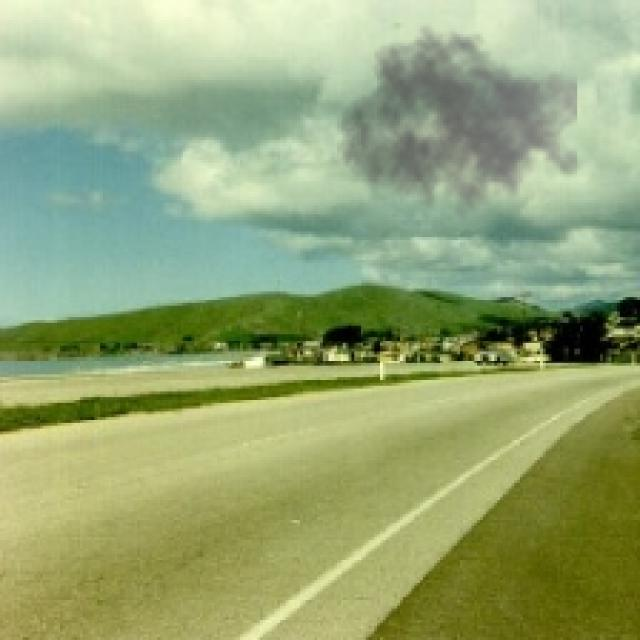smoke: (337, 23, 577, 231)
